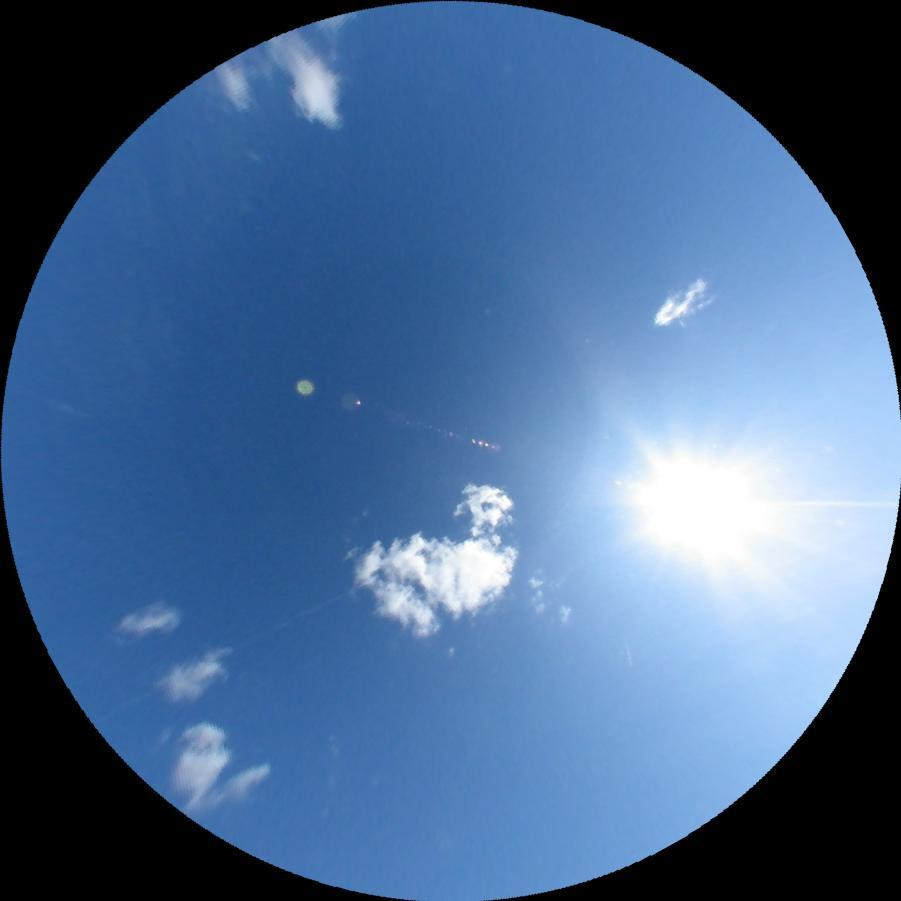contrail young: (624, 643, 633, 666)
parasite: (755, 500, 897, 507)
sun: (607, 431, 775, 576)
